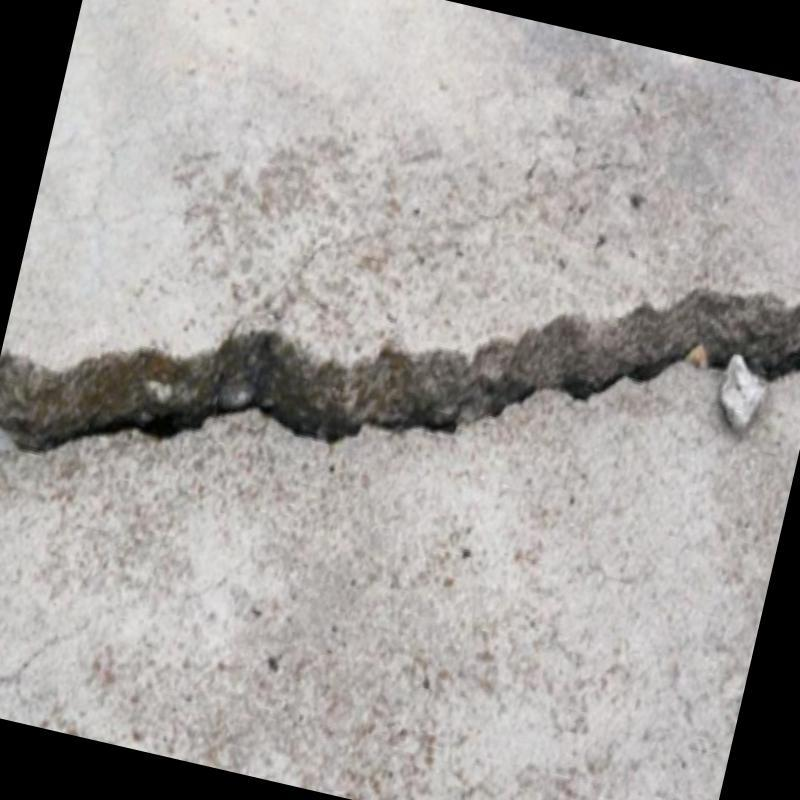crack: (0, 288, 800, 450)
